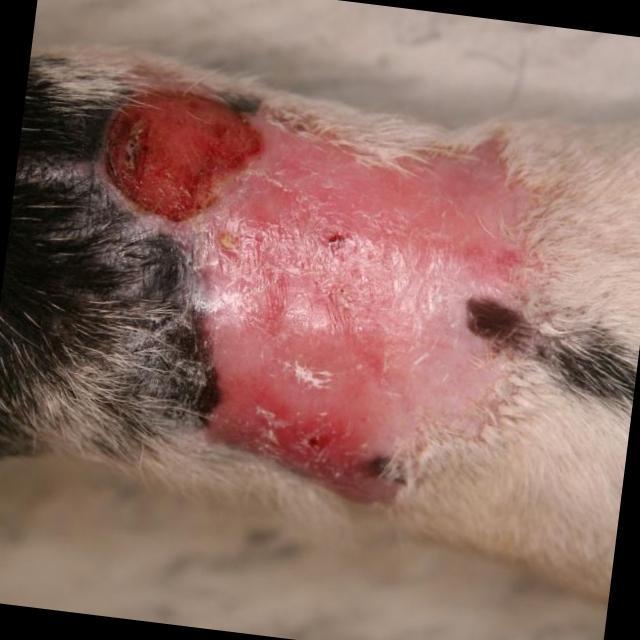allergic dermatitis: (112, 92, 544, 508)
